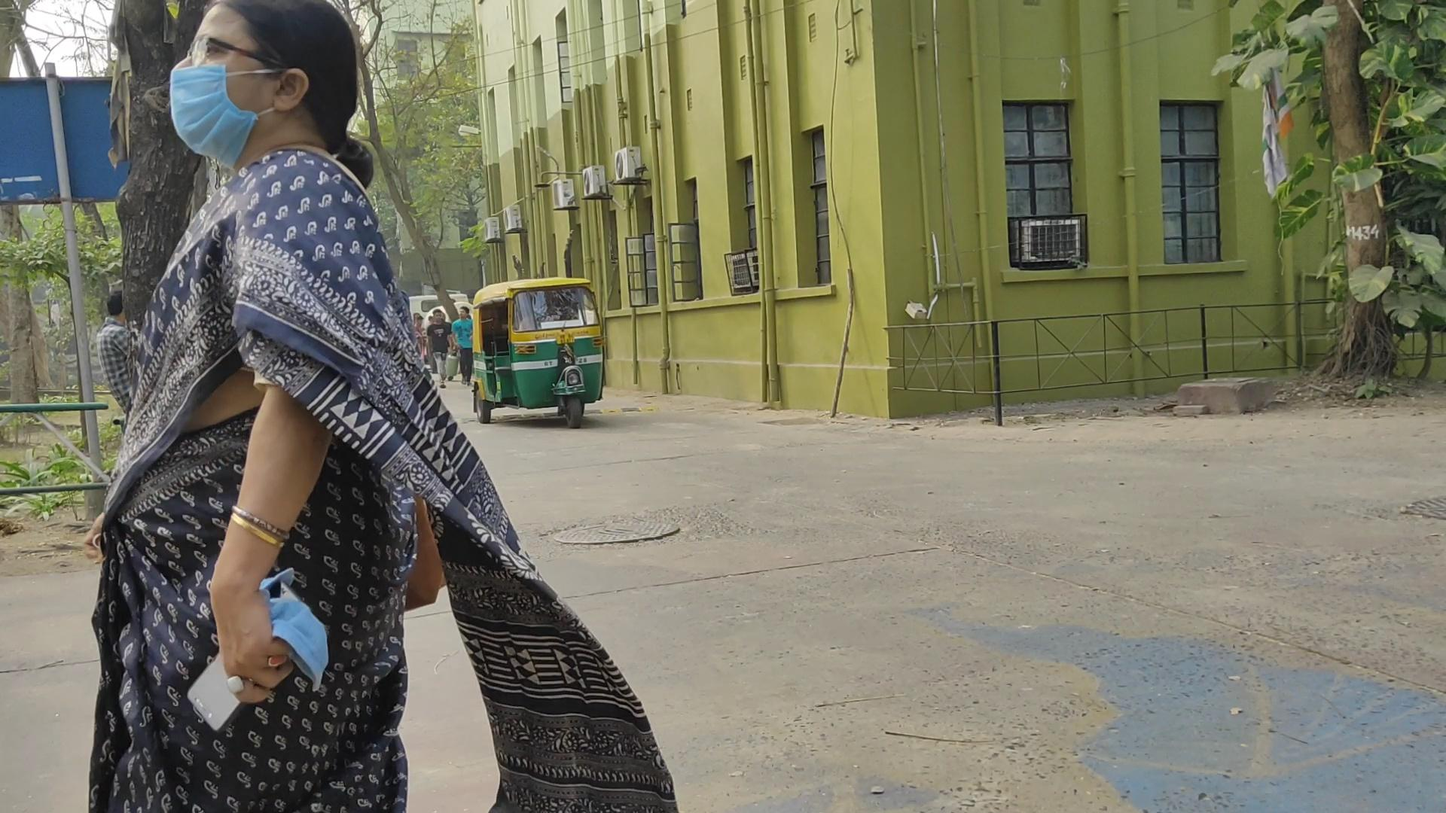Auto: (471, 276, 606, 429)
